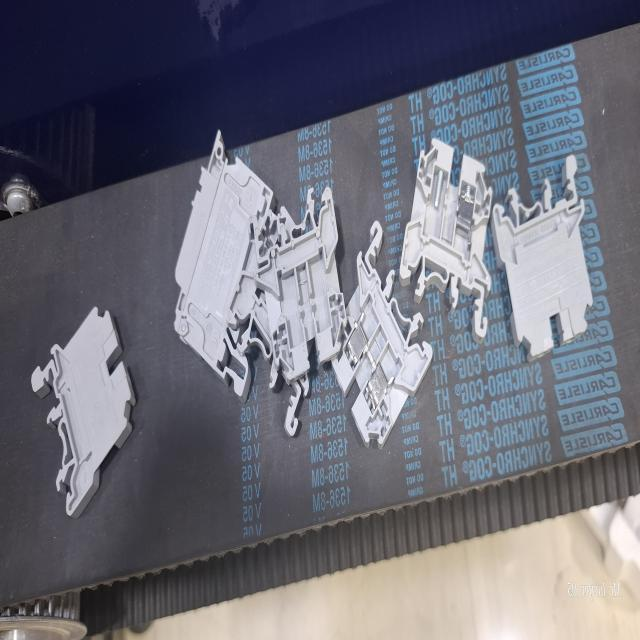Inverted: (30, 302, 136, 527), (489, 154, 594, 362)
Pass: (331, 220, 432, 444)
Reject: (396, 140, 494, 336), (252, 185, 343, 392)
